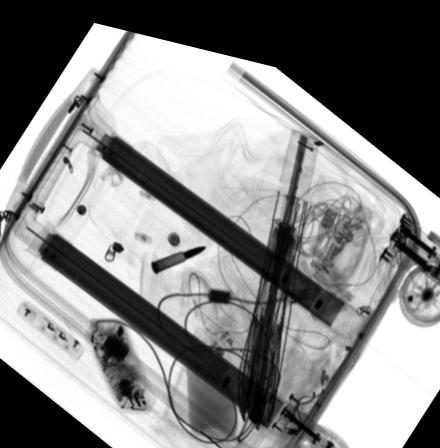Bullet: (150, 235, 207, 265)
